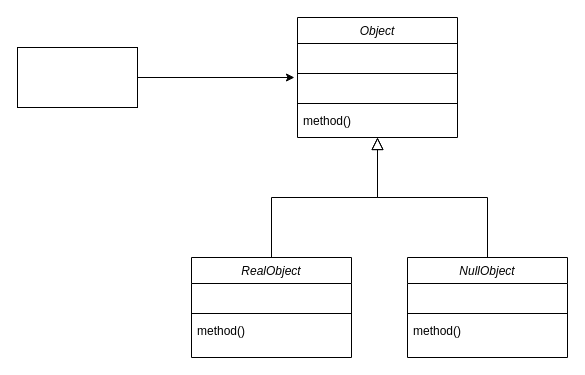
This 585x375 diagram has some shape labels left out. The shapes that lost their labels are listed below. From the top down, each one's centre as x and y in pixels, then its label:
At point (77, 77): "Client".
At point (377, 58): "«abstract»".
